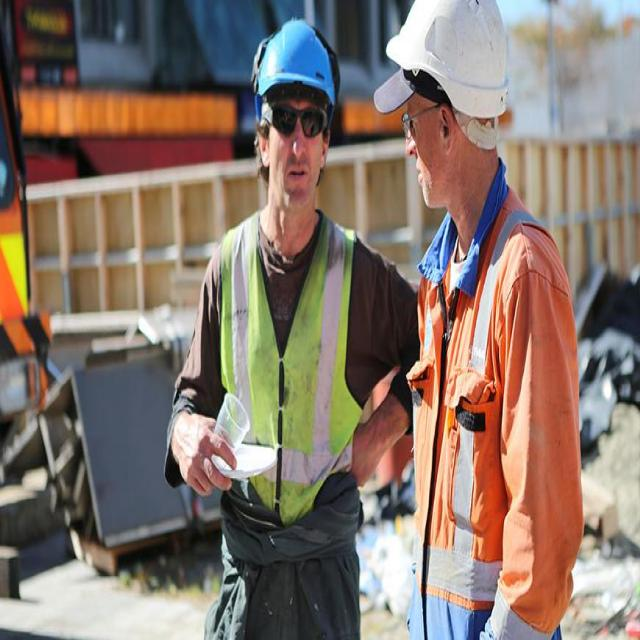Reflective-Jacket: (409, 197, 580, 628), (210, 213, 365, 521)
Safety-Helmet: (373, 0, 517, 124), (249, 15, 342, 110)
